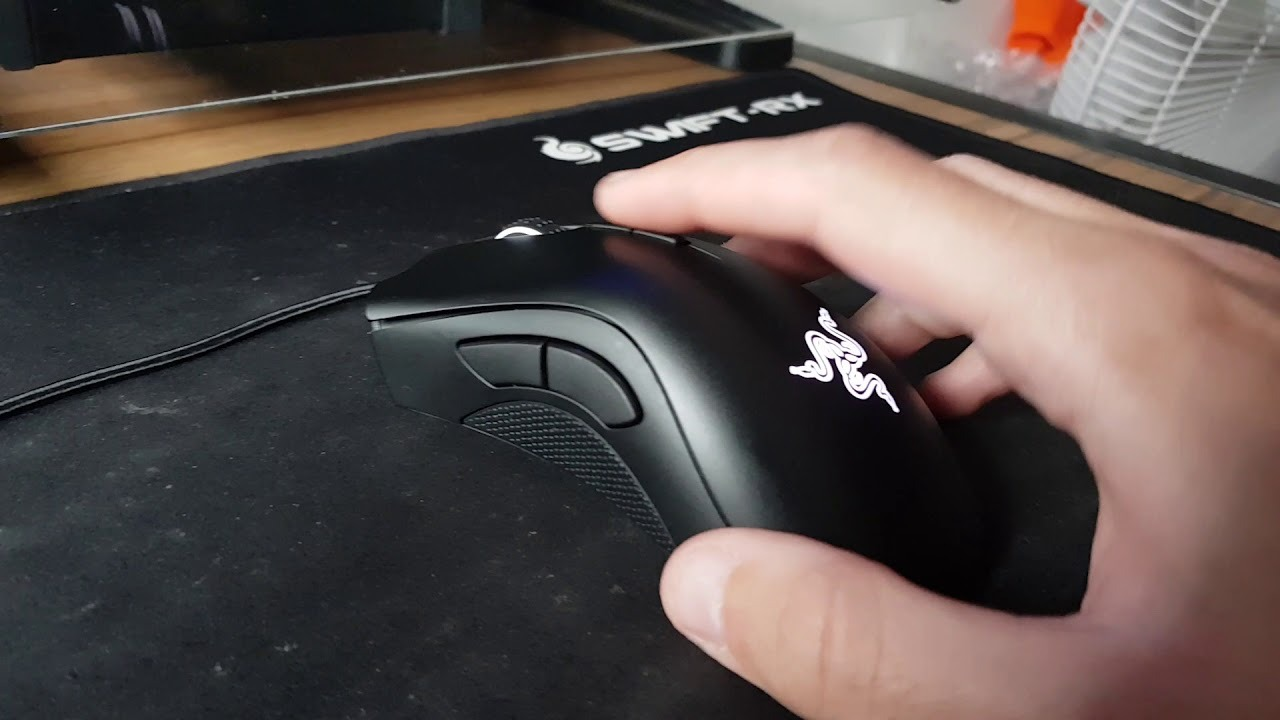mouse: (348, 182, 1018, 642)
